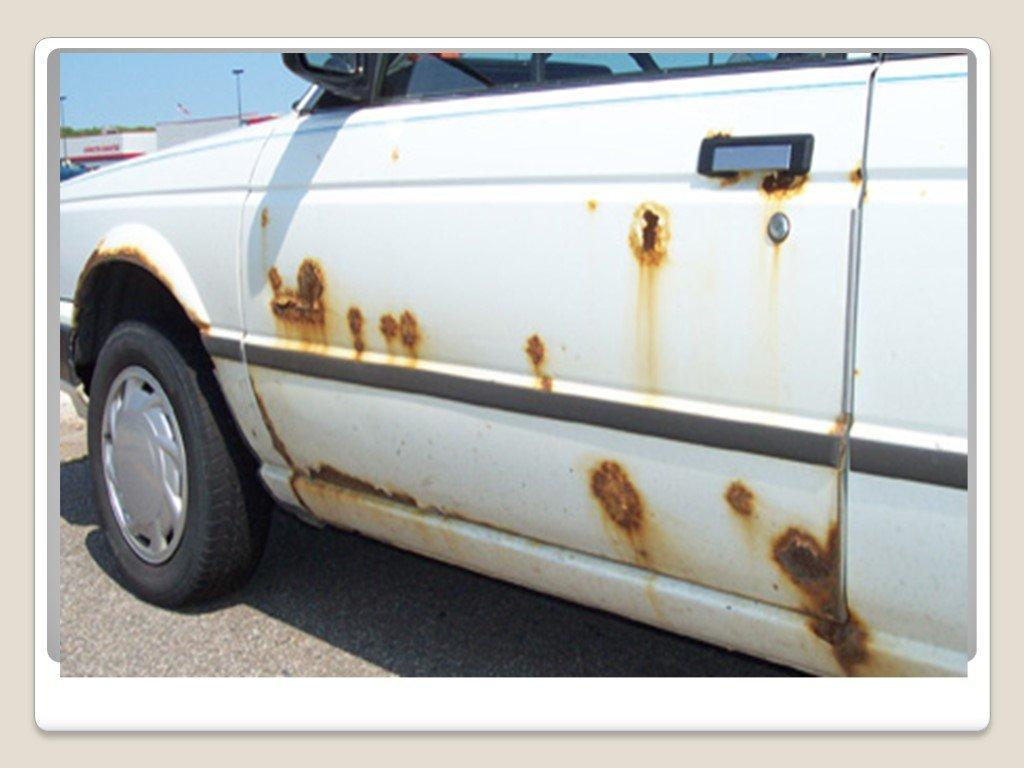corrosion: (248, 248, 455, 370), (771, 523, 888, 674), (78, 226, 218, 339), (576, 454, 658, 552), (601, 194, 690, 266), (506, 336, 571, 403), (721, 469, 759, 532), (751, 170, 814, 198), (706, 174, 759, 191), (257, 203, 275, 230), (847, 163, 865, 186)
